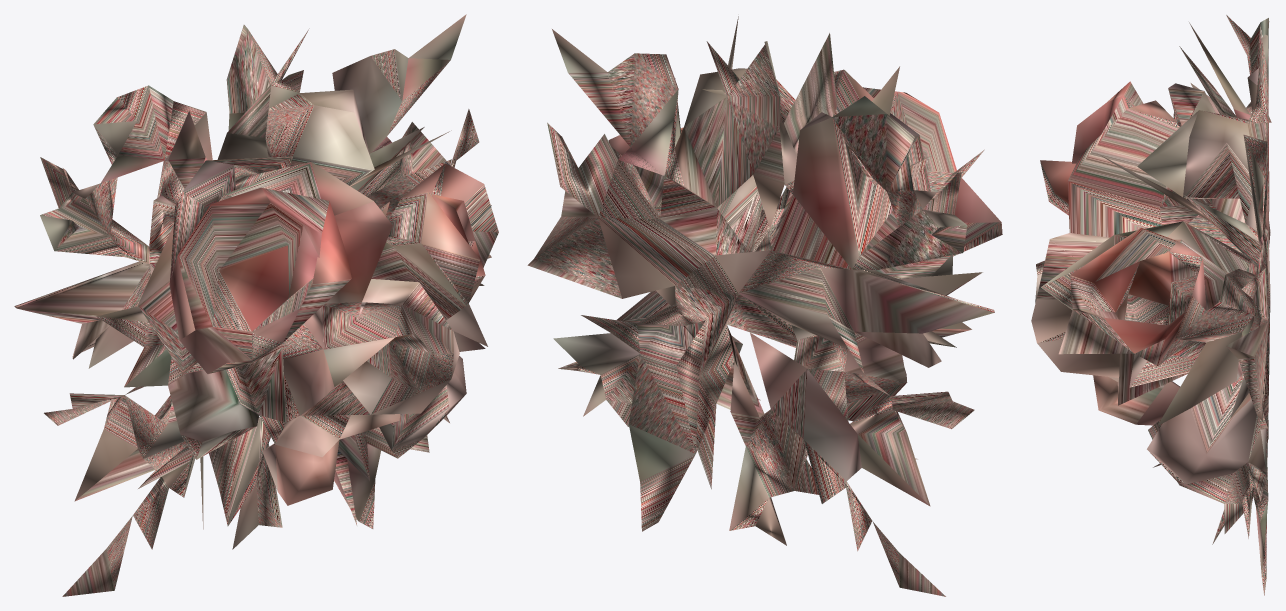
The picture shows the model from 3 angles, left to right: view 1: azimuth 30°, elevation 25°; view 2: azimuth 150°, elevation 25°; view 3: azimuth 270°, elevation 25°; orthographic projection. The views are drawn at different scales.
Parts seen in each view (by area): view 1: Rose-Bouquet-10-20; view 2: Rose-Bouquet-10-20; view 3: Rose-Bouquet-10-20.
Boxes of the visible parts, x1=… form: Rose-Bouquet-10-20: x1=14, y1=14, x2=498, y2=596; Rose-Bouquet-10-20: x1=527, y1=16, x2=1002, y2=596; Rose-Bouquet-10-20: x1=1031, y1=15, x2=1271, y2=595.
Bounding box in the file's own units: 0.2873 × 0.3071 × 0.133.
Materials: 1 (1 with a texture image).
